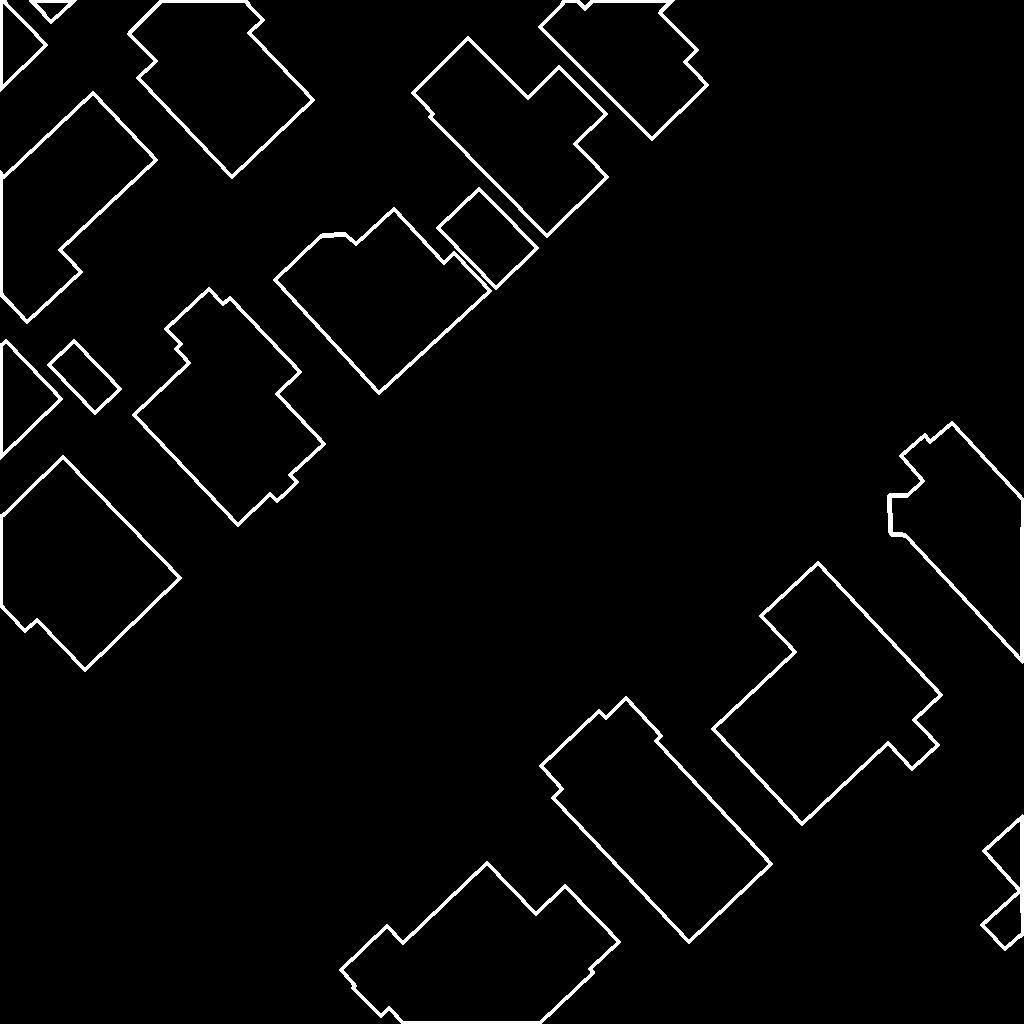building: (713, 563, 942, 825), (541, 698, 772, 943), (134, 289, 325, 526), (341, 863, 620, 1024), (275, 209, 491, 394), (413, 38, 608, 237), (0, 457, 181, 671), (0, 93, 157, 323), (129, 0, 314, 178), (889, 423, 1024, 663), (540, 0, 708, 140), (438, 189, 538, 289), (0, 341, 62, 459), (982, 816, 1024, 950), (49, 341, 121, 414), (0, 0, 47, 91), (30, 0, 76, 23), (1022, 17, 1024, 25)
